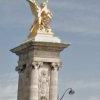Statue: (13, 1, 74, 54)
